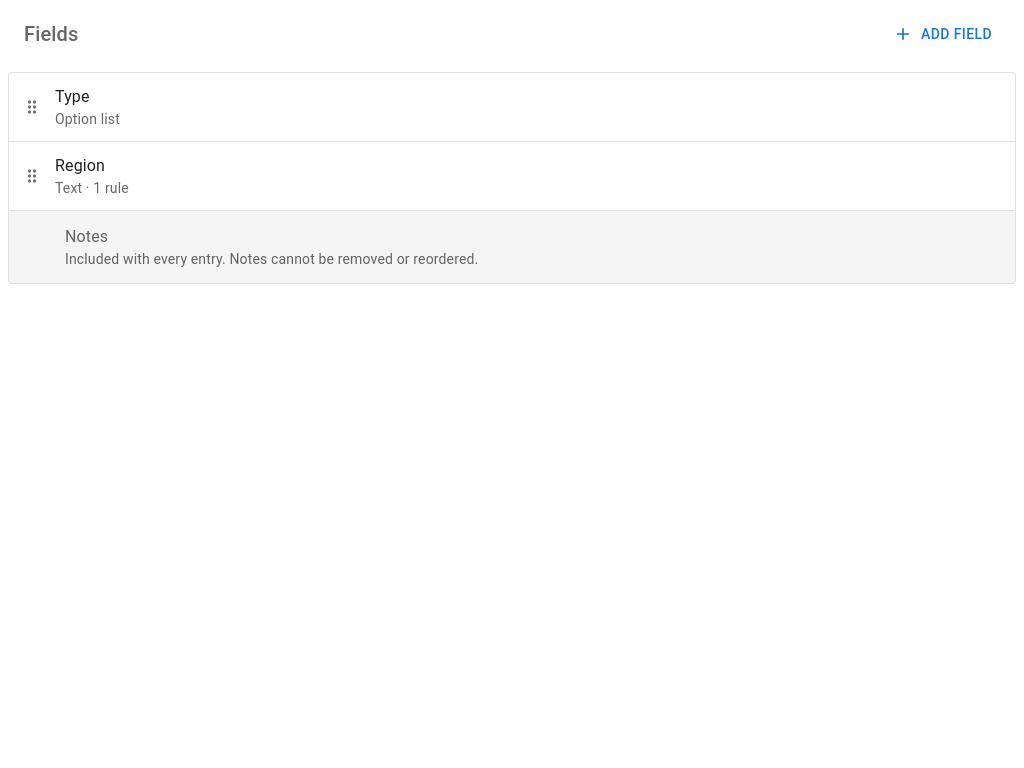
Scenario: WorldCategoryFields › blocks deletion when a condition references the field, before prompting
Click the button with aria-label "Edit Type" at (87, 107), box 55,87 -> 120,127
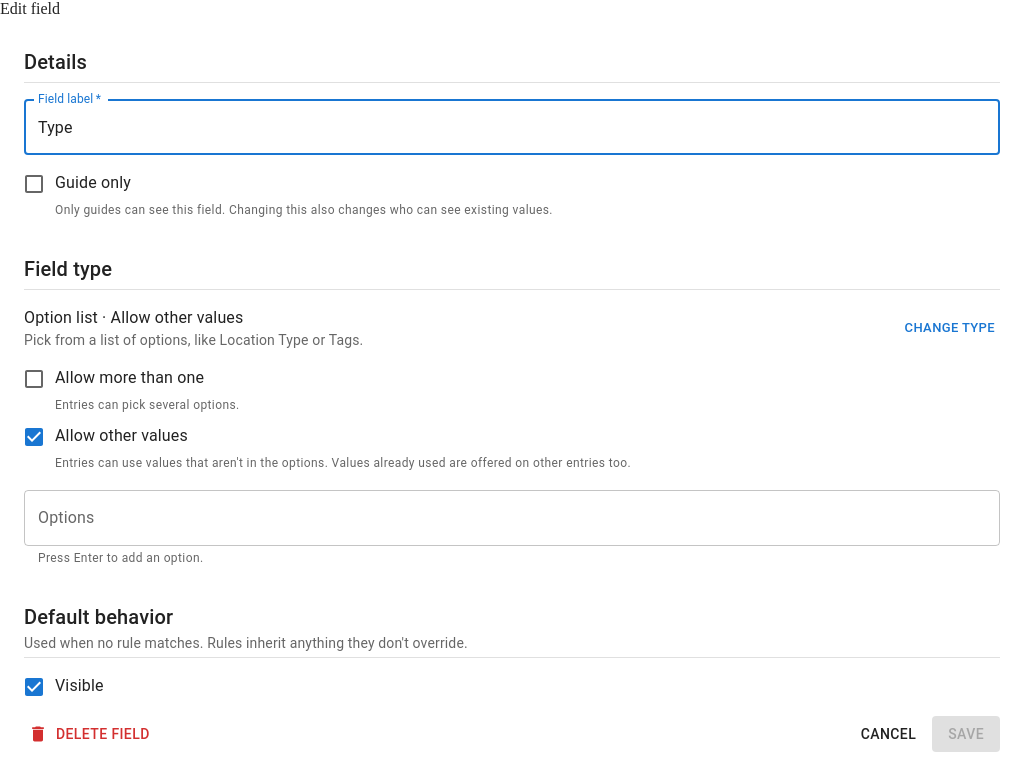
Click the button "Delete field" at (91, 734), box 24,716 -> 158,752
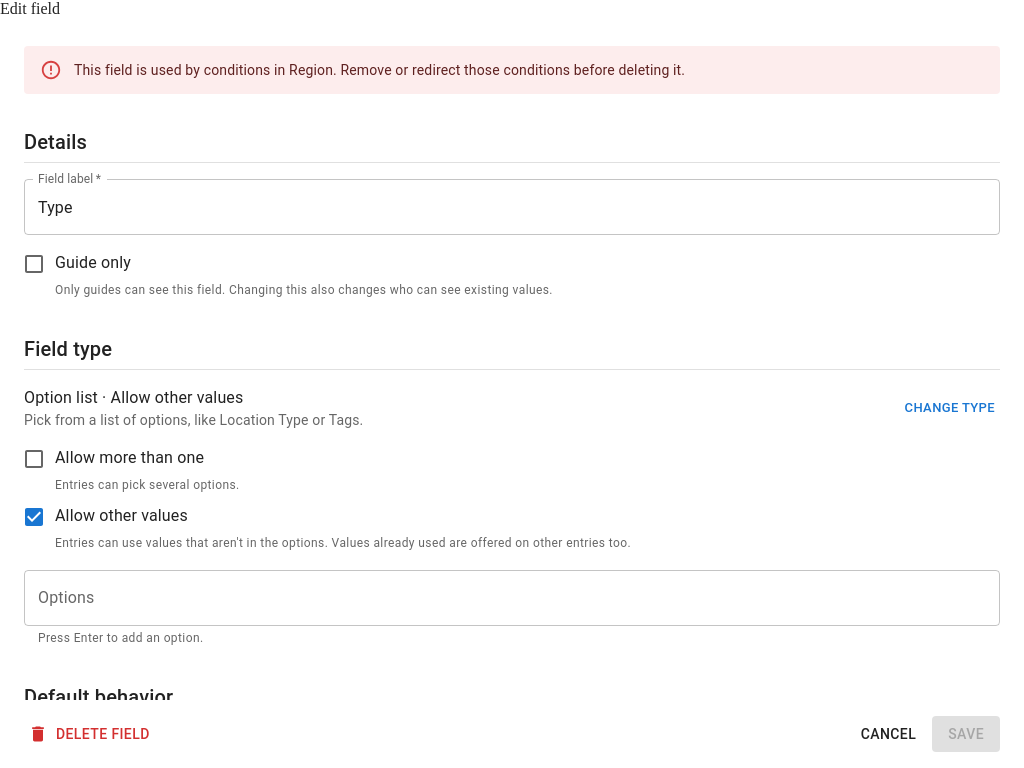
Expected: the number of dialogs is 1
Expected: the dialog shows "Edit field", 0,0 -> 60,17
Expected: the message shows "conditions in Region", 74,62 -> 685,78
